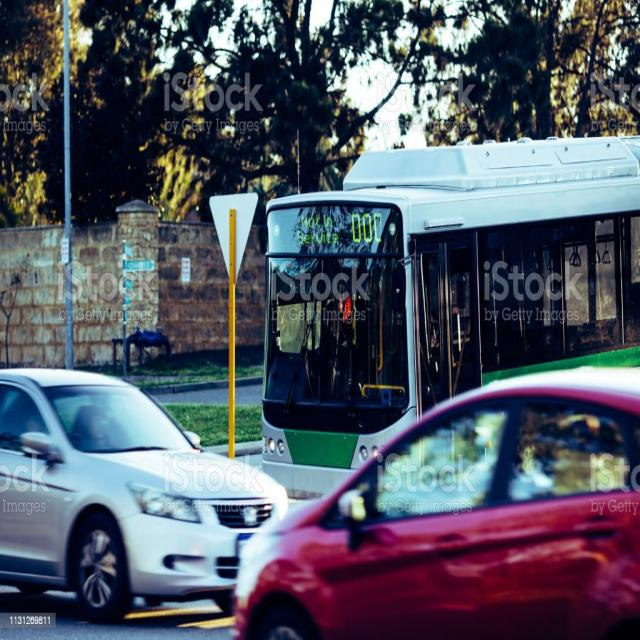bus: (254, 139, 640, 450)
car: (301, 370, 640, 636), (0, 378, 284, 604)
column: (44, 15, 85, 360), (204, 197, 252, 473)
